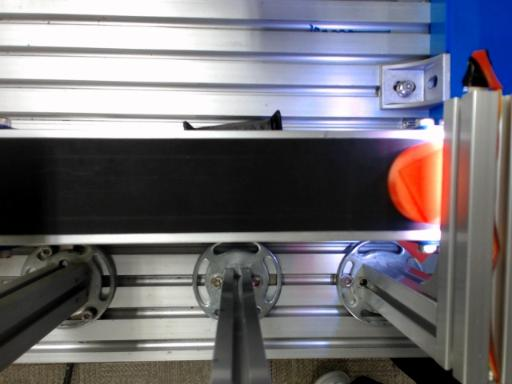Orange_Waper: (388, 142, 442, 224)
